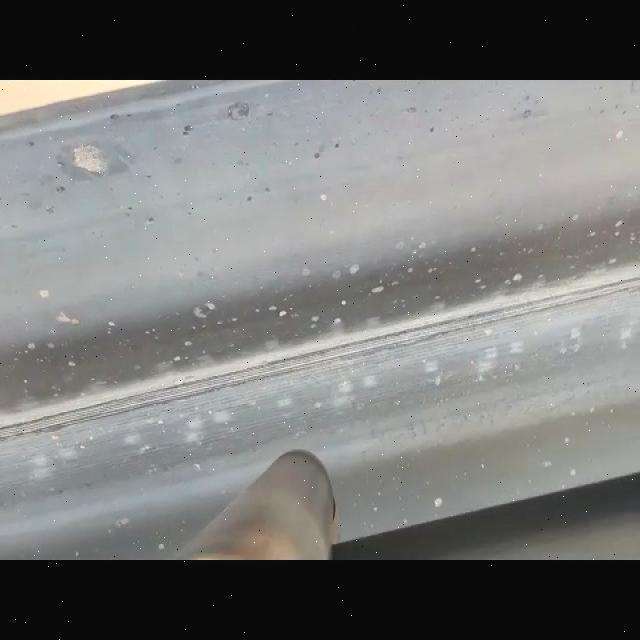Wear: (0, 264, 640, 450), (58, 130, 125, 178)
